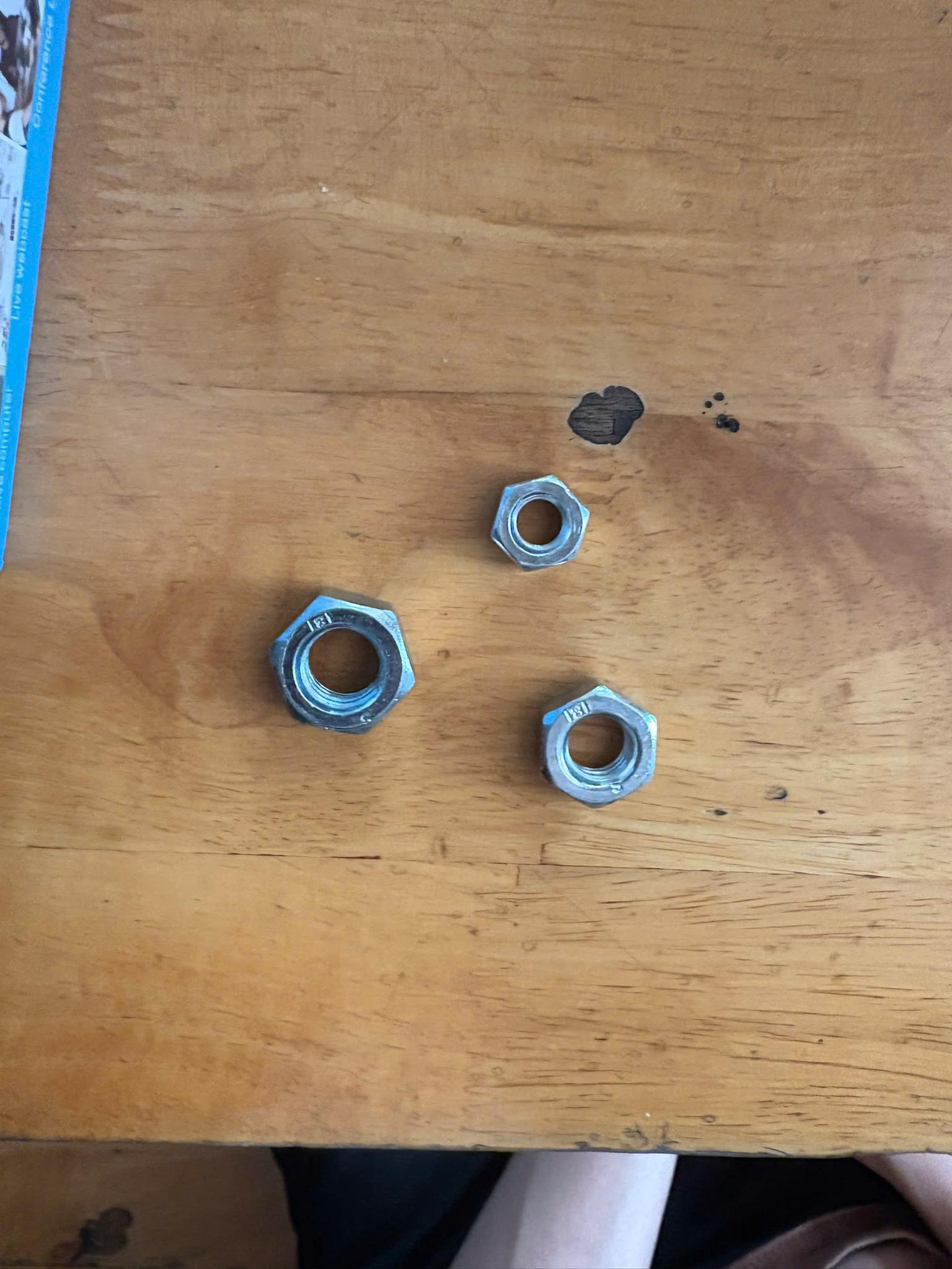nut: (253, 593, 420, 742), (483, 466, 603, 599)
